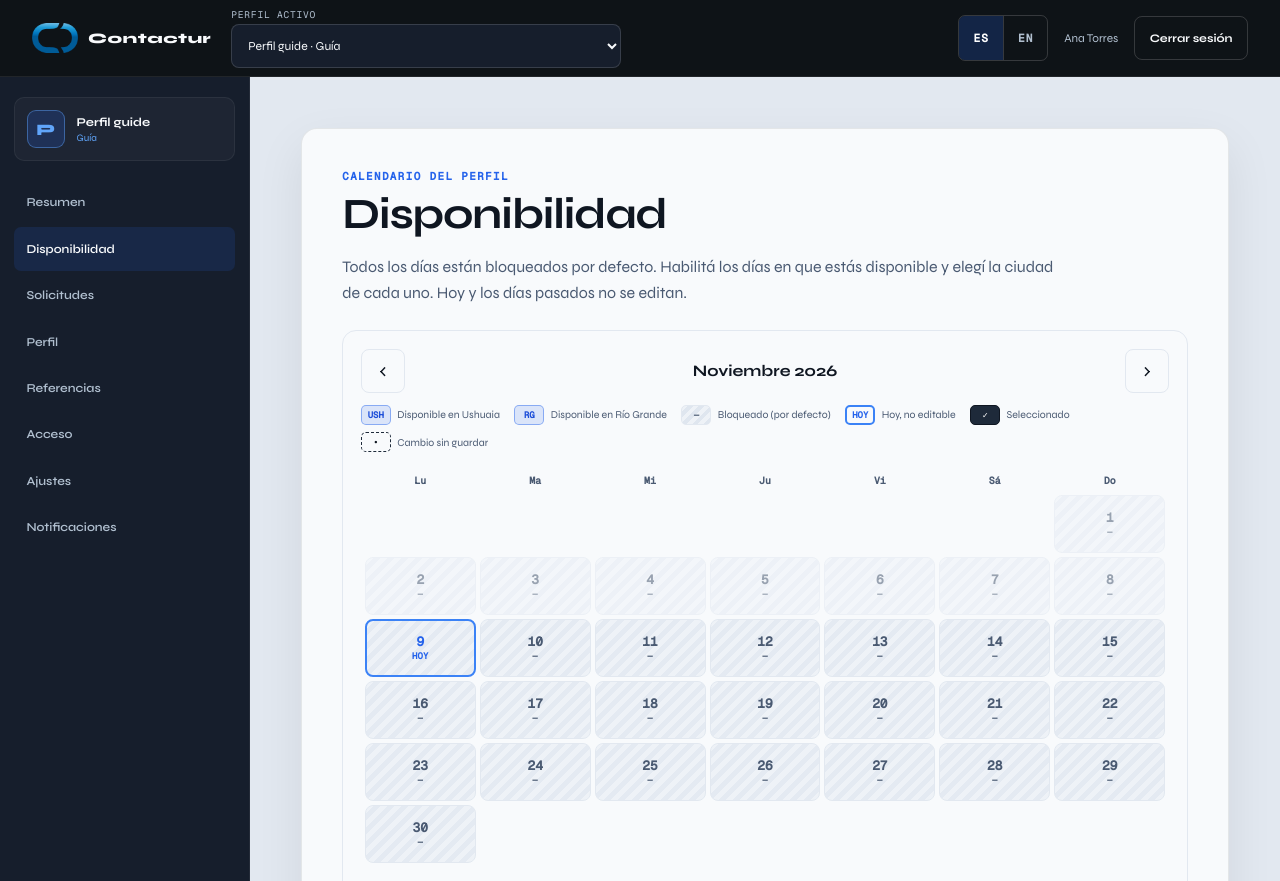
Test: T13 — calendario mensual › un 409 explica el conflicto, no reenvía y recargar trae el estado nuevo conservando el borrador
This screenshot has width=1280, height=881.
expect the heading "Disponibilidad" is shown: met, box left=342, top=188, right=667, bottom=240
Click the button "10 —" at [535, 648], box left=480, top=620, right=591, bottom=678
(page scrolled)
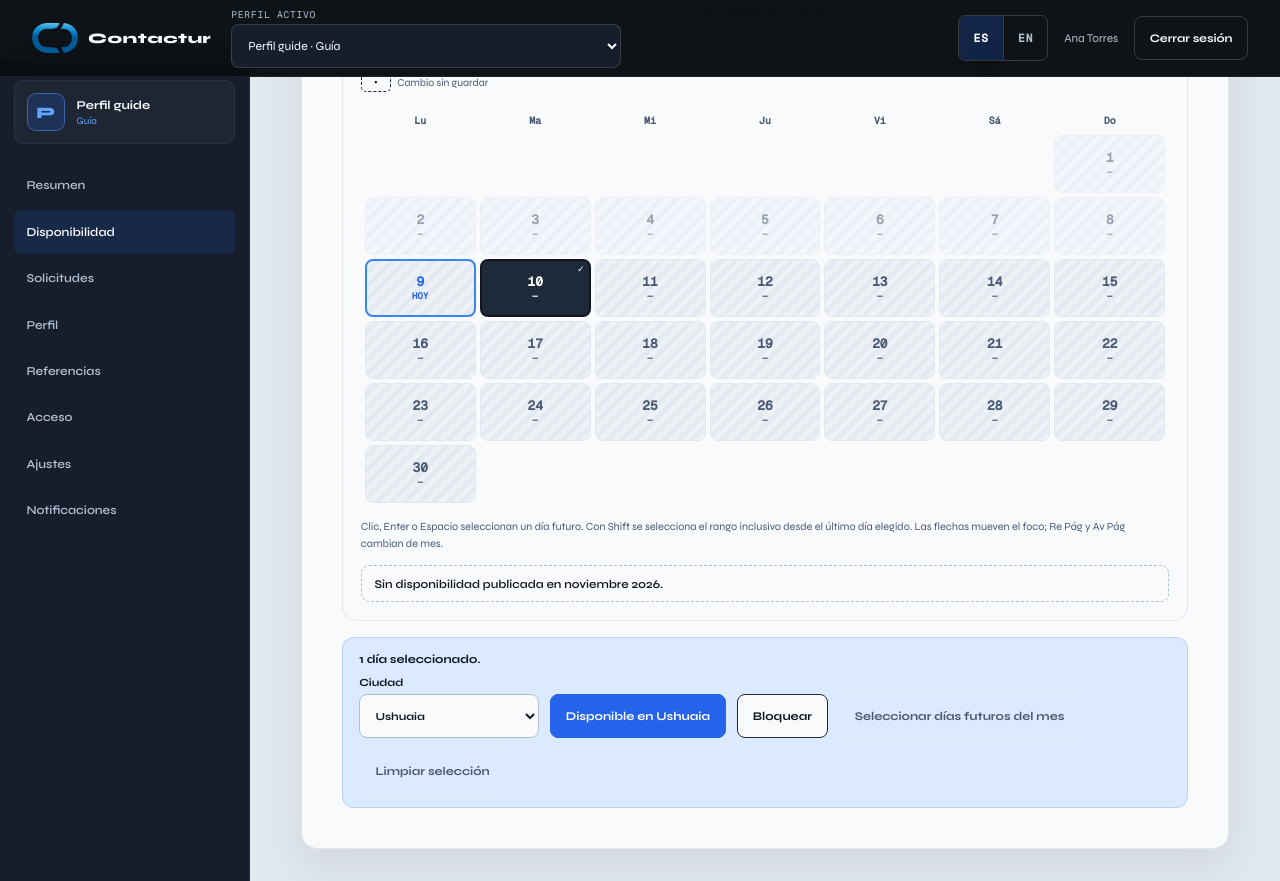
Click the button "Disponible en Ushuaia" at [638, 716], box left=550, top=694, right=726, bottom=738
(page scrolled)
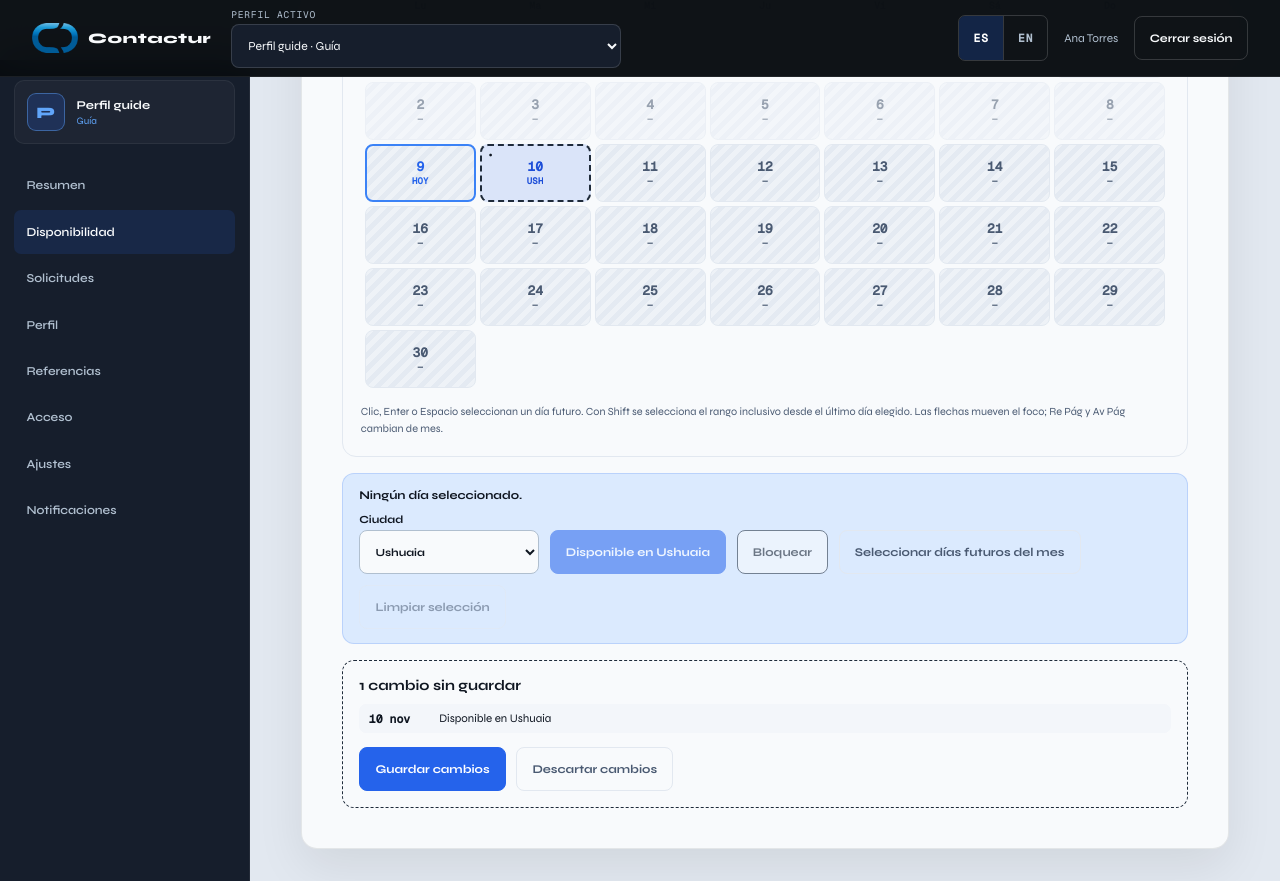
Click the button "Guardar cambios" at [432, 769], box left=359, top=747, right=506, bottom=791
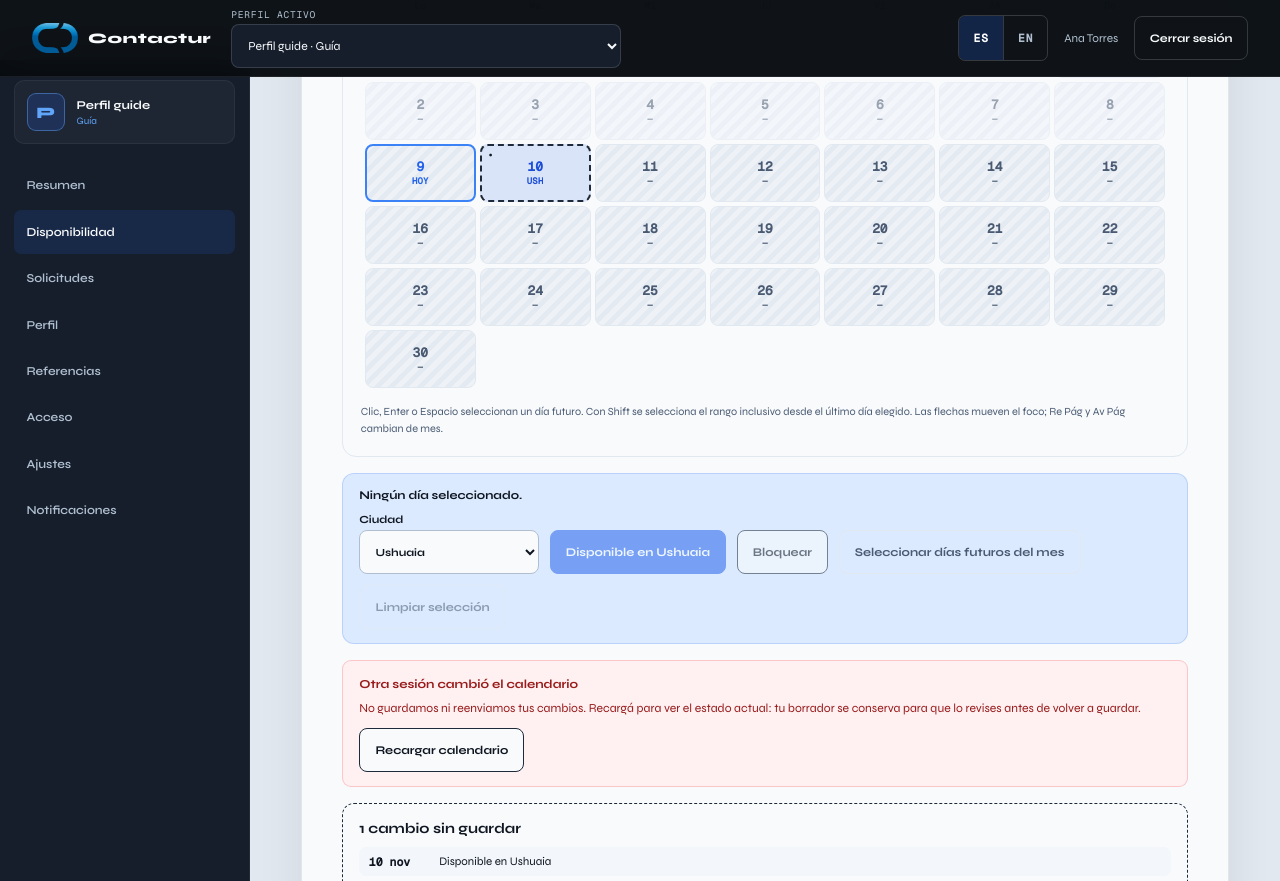
expect the message shows "Otra sesión cambió el calendario": met, box left=359, top=677, right=578, bottom=691
expect the message shows "No guardamos ni reenviamos tus cambios": met, box left=359, top=701, right=1141, bottom=715
Click the button "Recargar calendario" at [442, 750], box left=359, top=728, right=524, bottom=772
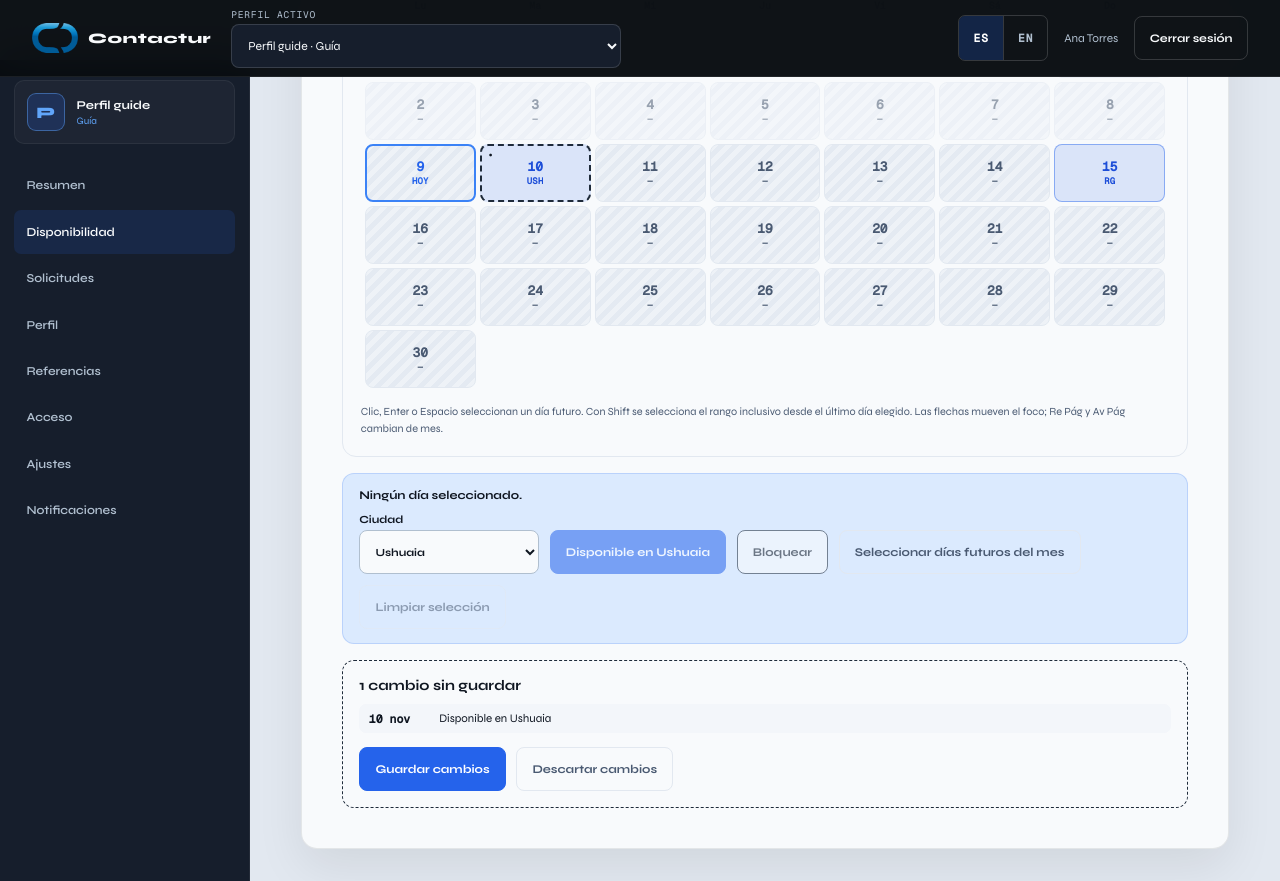
expect the text "Otra sesión cambió el calendario" is gone: met
Click the button "Guardar cambios" at [432, 769], box left=359, top=747, right=506, bottom=791
(page scrolled)
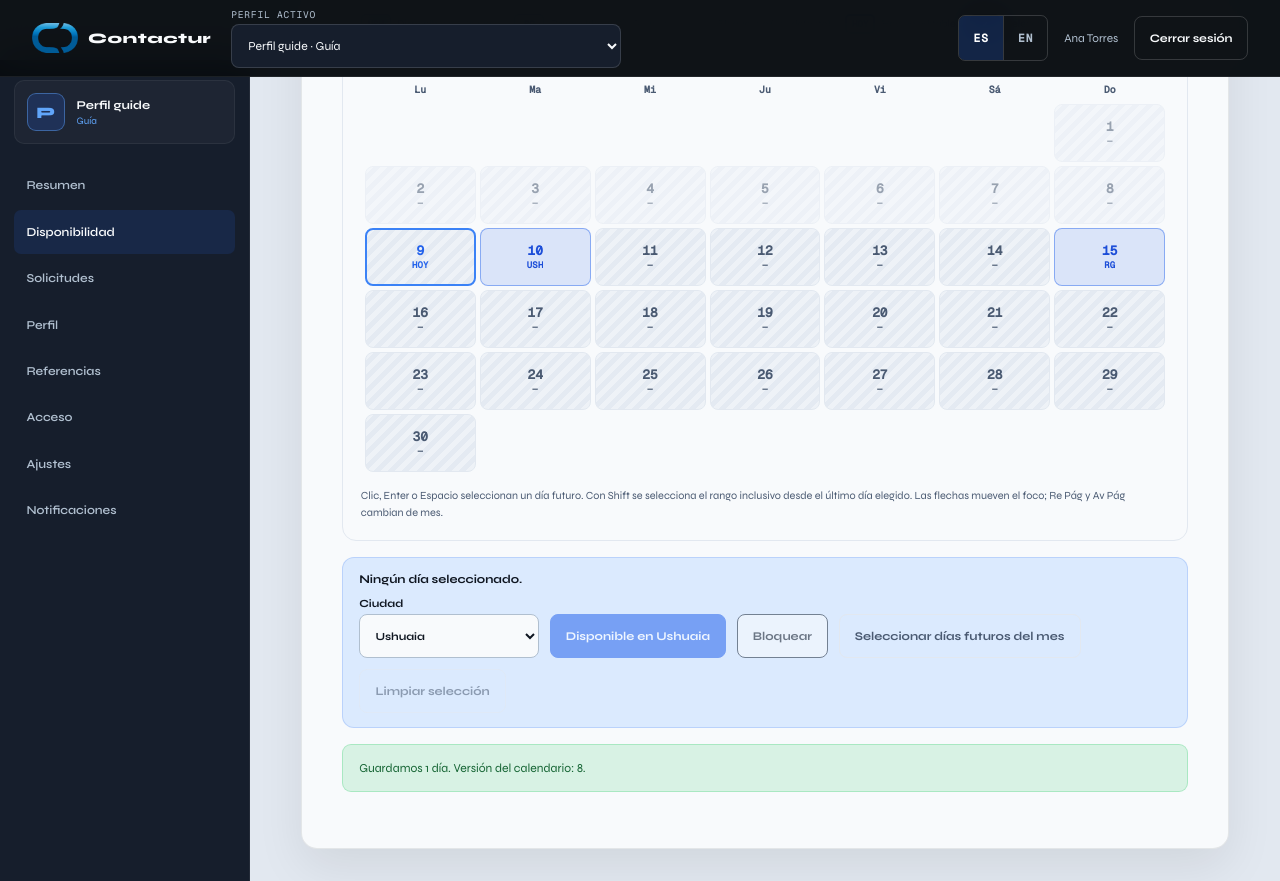
expect the text "Guardamos 1 día. Versión del calendario: 8." is shown: met, box left=342, top=744, right=1188, bottom=792
